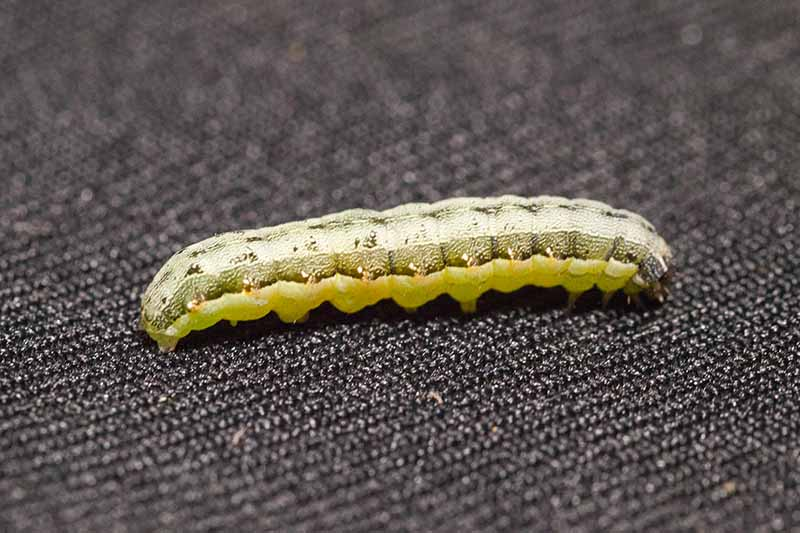Armyworm: (106, 175, 692, 373)
